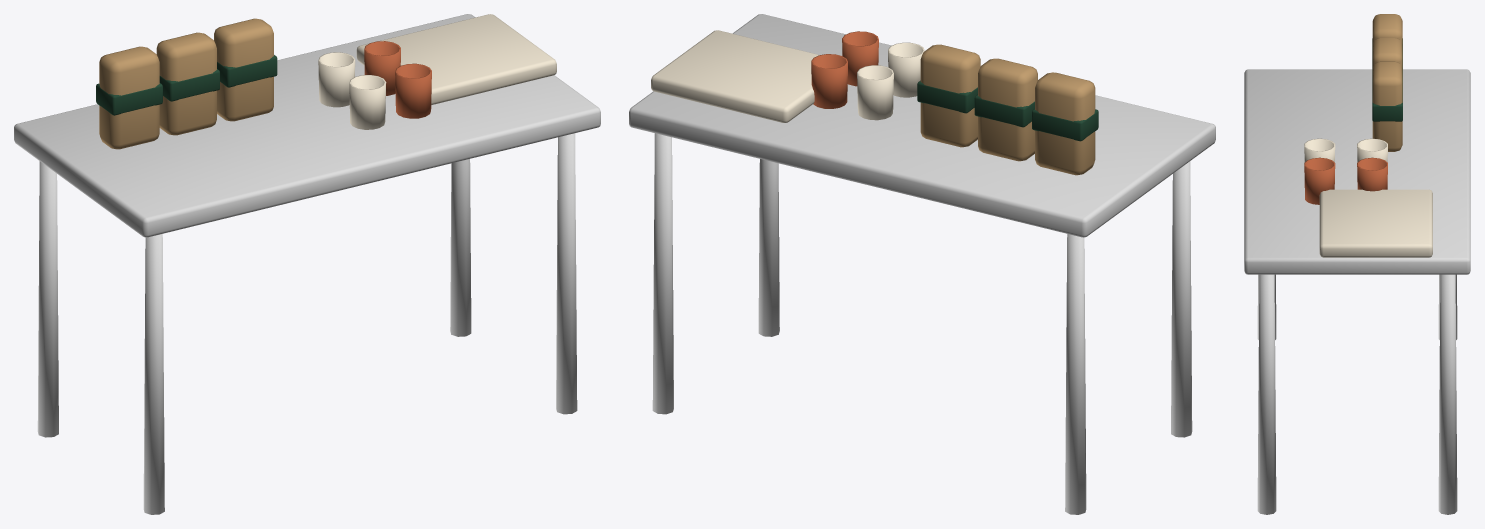
Rendered from SM_MB_MerchTable.fbx.
3 renders of one model, left to right at view 1: azimuth 30°, elevation 25°; view 2: azimuth 150°, elevation 25°; view 3: azimuth 270°, elevation 25°, orthographic. The views are drawn at different scales.
Visible parts, largest first — view 1: SM_MB_MerchTable; view 2: SM_MB_MerchTable; view 3: SM_MB_MerchTable.
Boxes of the visible parts, <box> form: SM_MB_MerchTable: <box>14,14,600,514</box>; SM_MB_MerchTable: <box>629,14,1215,514</box>; SM_MB_MerchTable: <box>1244,14,1470,514</box>.
Bounding box in the file's own units: 1.2 × 0.6 × 0.985.
